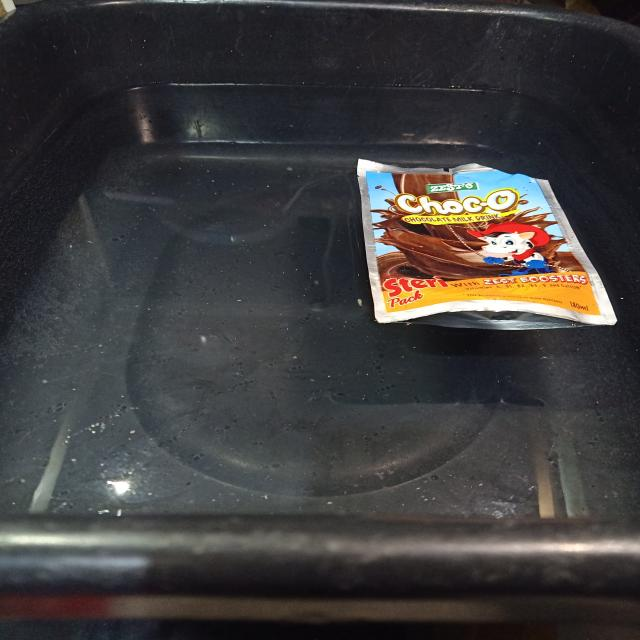Plastic Pouch: (357, 159, 616, 327)
